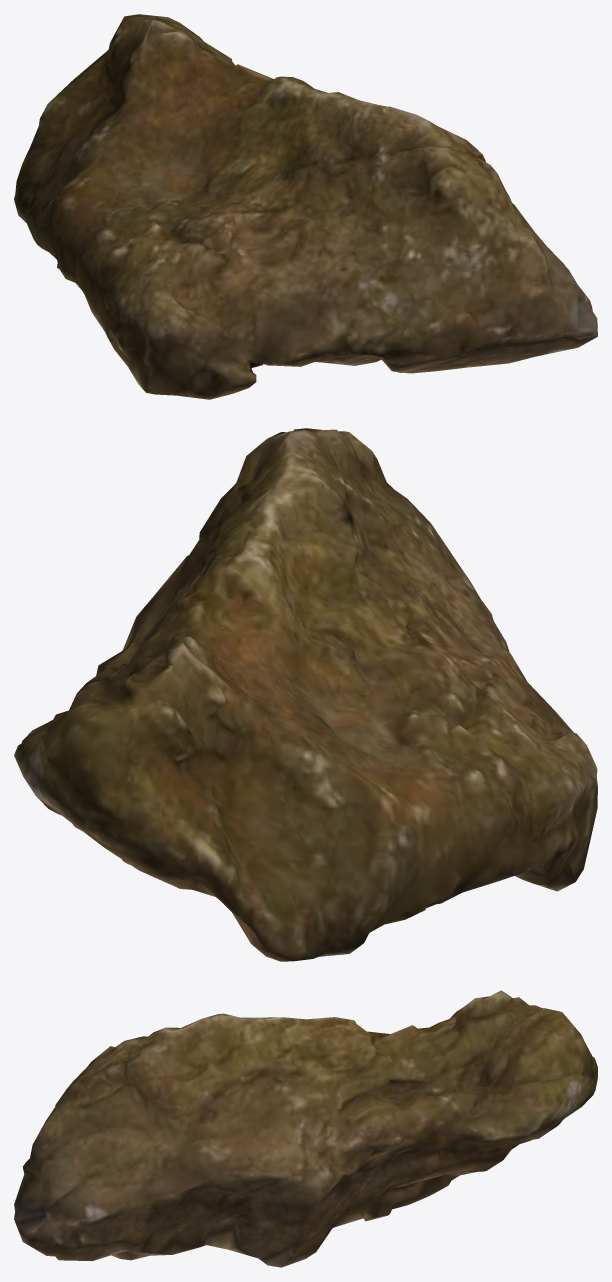
Rendered from rock_moss_set_01-rock01.glb.
3 views of the same model, one above another, from view 1: azimuth 30°, elevation 25°; view 2: azimuth 150°, elevation 25°; view 3: azimuth 270°, elevation 25° (orthographic). The views are drawn at different scales.
Visible parts, largest first — view 1: rock_moss_set_01_rock01; view 2: rock_moss_set_01_rock01; view 3: rock_moss_set_01_rock01.
Part boxes in pixels (x1,y1,x2,y2): rock_moss_set_01_rock01: (14, 14, 597, 399); rock_moss_set_01_rock01: (14, 428, 597, 961); rock_moss_set_01_rock01: (14, 990, 597, 1267).
Bounding box in the file's own units: 2.24 × 1.47 × 3.36.
1 material, 1 textured.
